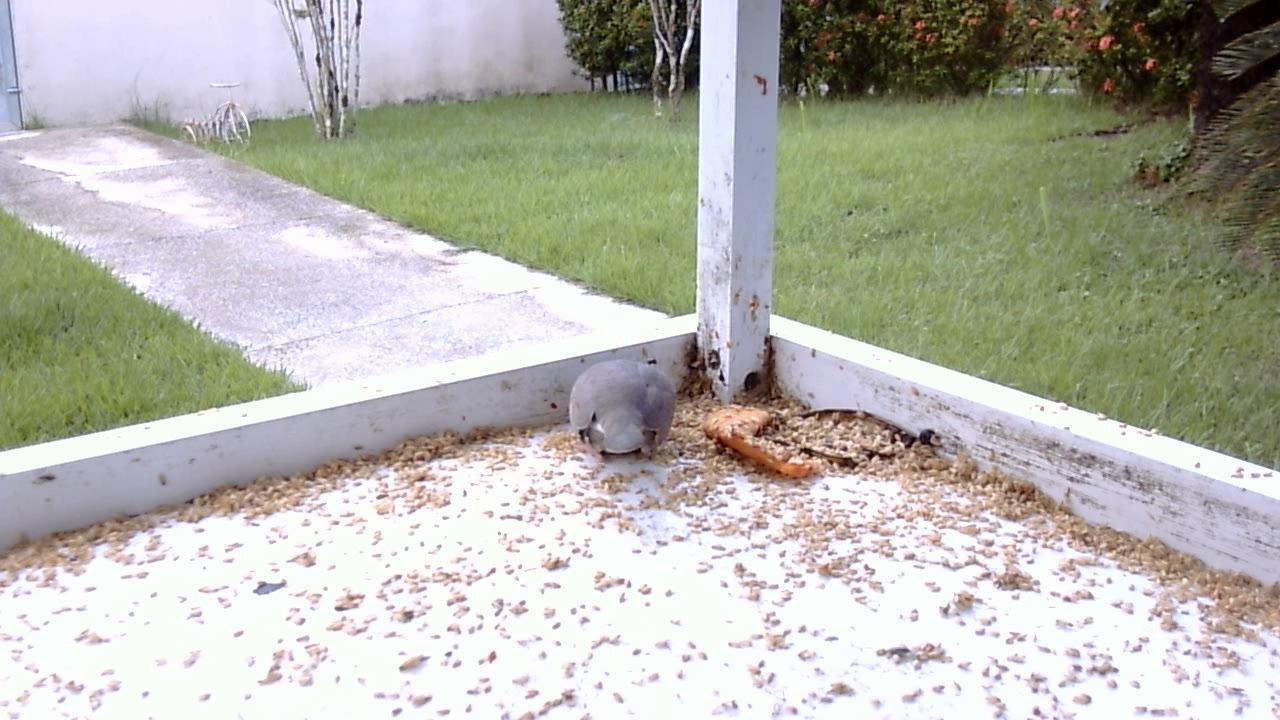rolinha: (562, 351, 679, 469)
